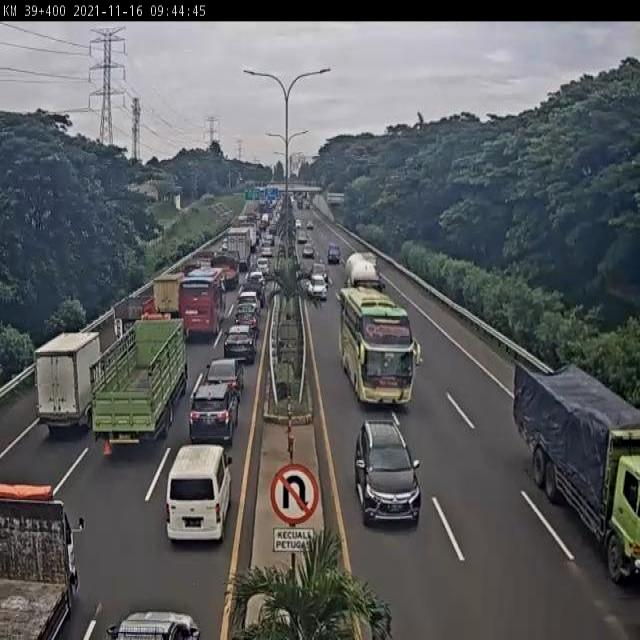Bus: (338, 281, 424, 414)
Car: (355, 418, 422, 532), (165, 444, 231, 542), (188, 376, 240, 446), (106, 609, 202, 638), (204, 357, 246, 401), (224, 320, 258, 361), (307, 273, 328, 301), (302, 246, 314, 258)
Truck: (509, 346, 640, 584), (0, 473, 90, 638), (92, 315, 180, 450), (29, 323, 96, 442), (181, 267, 224, 322), (150, 266, 187, 307)
